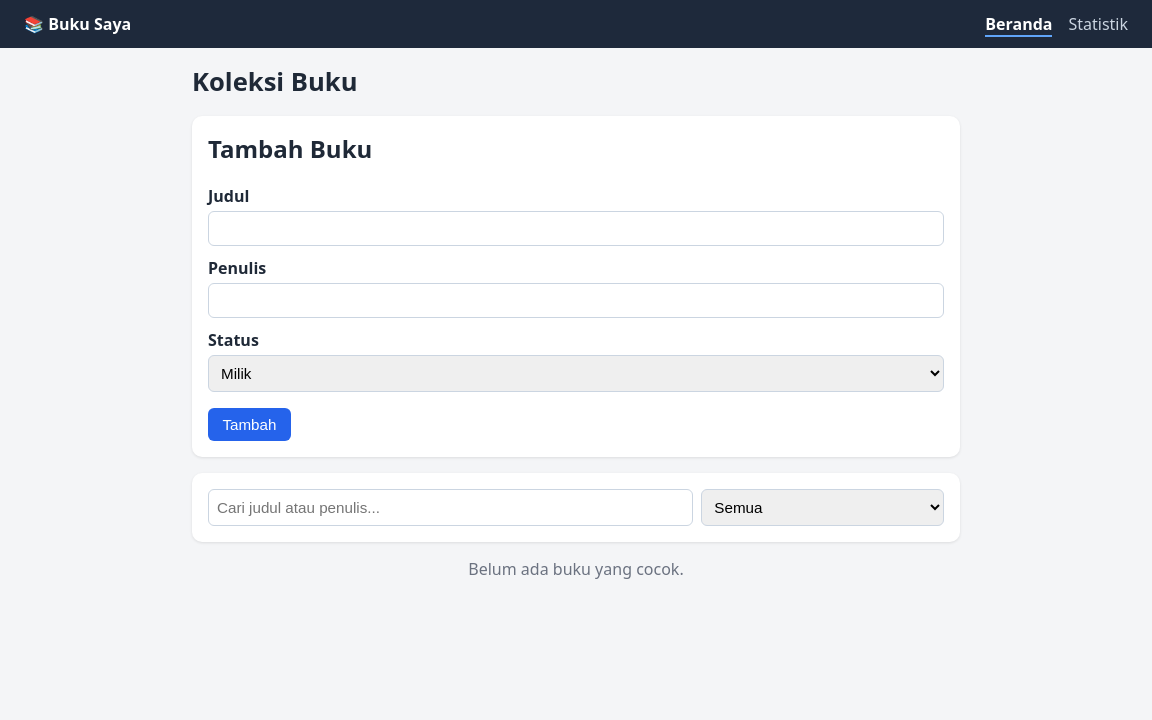
Test: Integrasi aplikasi › menambah buku, tampil di daftar, dan tersimpan di localStorage
Type "Bumi" into the field labelled "Judul" at (576, 228), box x1=208 y1=211 x2=944 y2=246
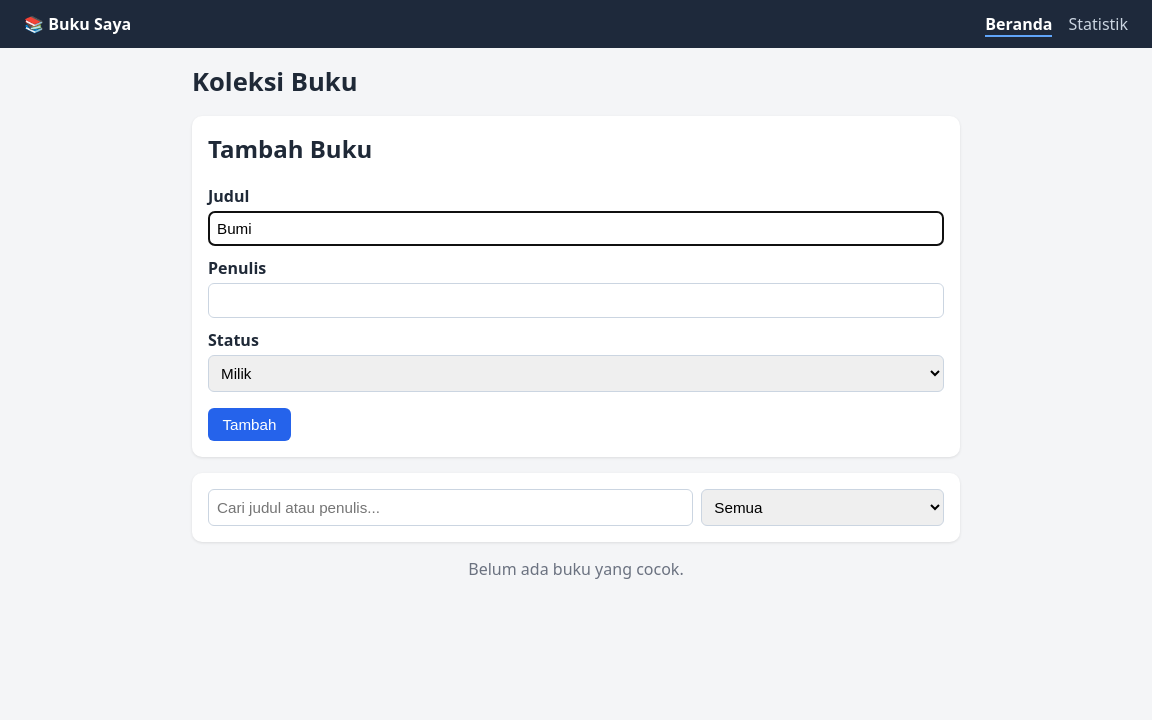
Type "Tere Liye" into the field labelled "Penulis" at (576, 300), box x1=208 y1=283 x2=944 y2=318
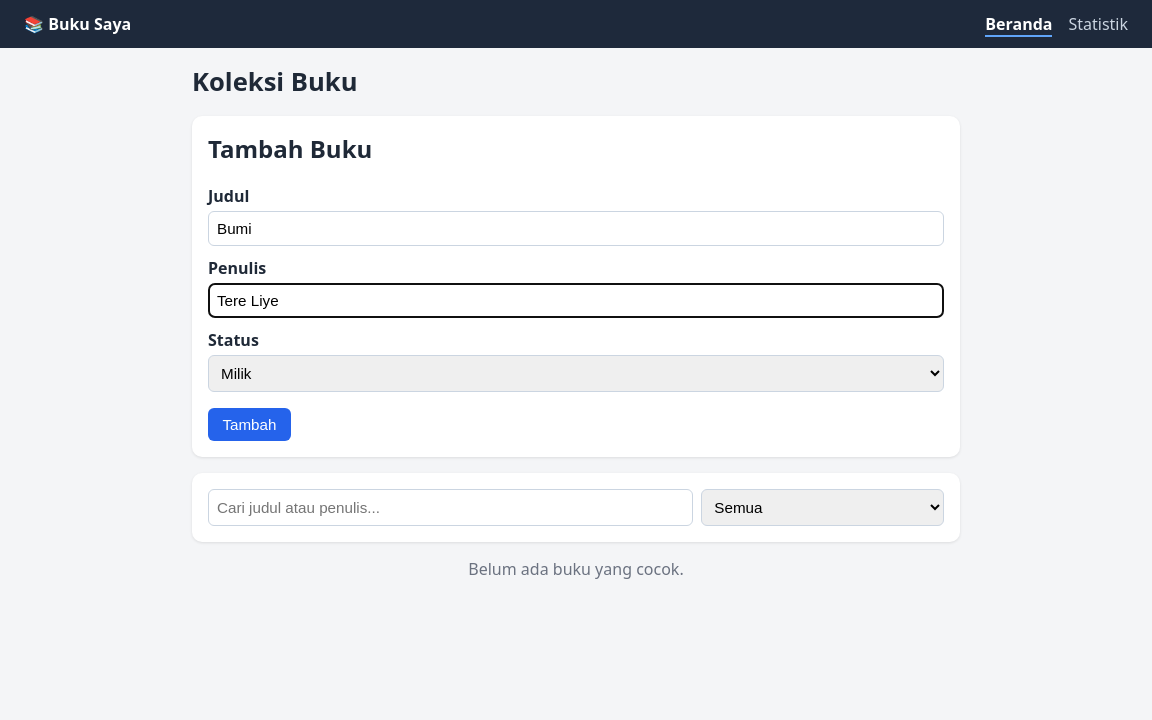
Click the button "Tambah" at (249, 424), box x1=208 y1=408 x2=291 y2=441
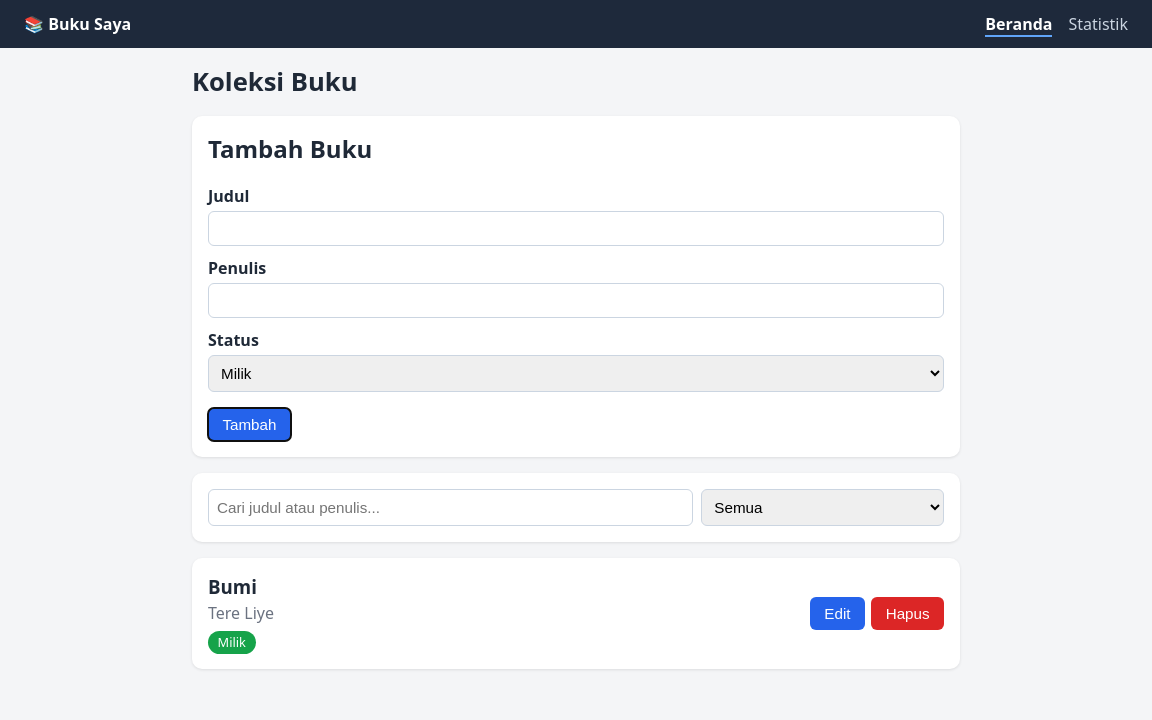
Expected: the heading "Bumi" is shown, x1=208 y1=574 x2=257 y2=599
